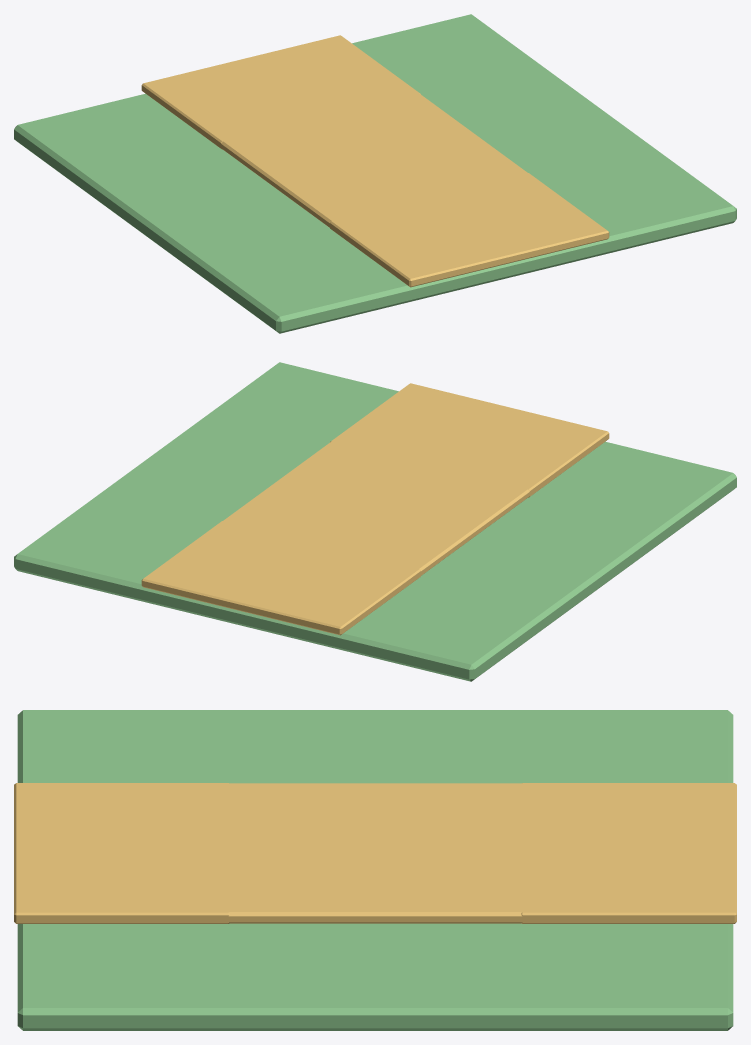
Rendered from ROAD_DIRT_1x1_STRAIGHT.glb.
3 views of the same model, one above another, from view 1: azimuth 30°, elevation 25°; view 2: azimuth 150°, elevation 25°; view 3: azimuth 270°, elevation 25° (orthographic). The views are drawn at different scales.
Visible parts, largest first — view 1: ROAD_DIRT_1x1_STRAIGHT_Visual; view 2: ROAD_DIRT_1x1_STRAIGHT_Visual; view 3: ROAD_DIRT_1x1_STRAIGHT_Visual.
Boxes of the visible parts, bbox=[...] form: ROAD_DIRT_1x1_STRAIGHT_Visual: bbox=[14, 14, 736, 333]; ROAD_DIRT_1x1_STRAIGHT_Visual: bbox=[14, 362, 736, 681]; ROAD_DIRT_1x1_STRAIGHT_Visual: bbox=[14, 710, 736, 1030].
Size of what is drawn, in the model's own units: 1.98 by 0.1045 by 2.
